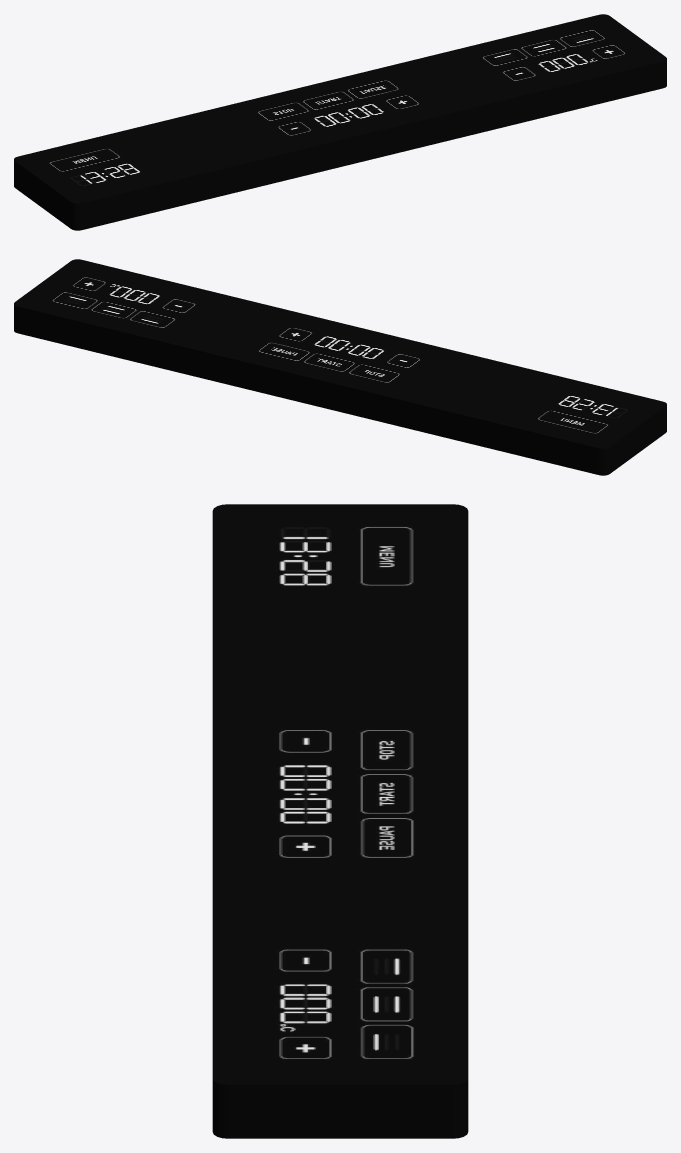
File: oven_right_group_main_model_3.obj
The picture shows the model from 3 angles, top to bottom: view 1: azimuth 30°, elevation 25°; view 2: azimuth 150°, elevation 25°; view 3: azimuth 270°, elevation 25°; orthographic projection. The views are drawn at different scales.
Size of the model in its own units: 0.3553 by 0.0154 by 0.0661.
Materials: 1 (1 with a texture image).
